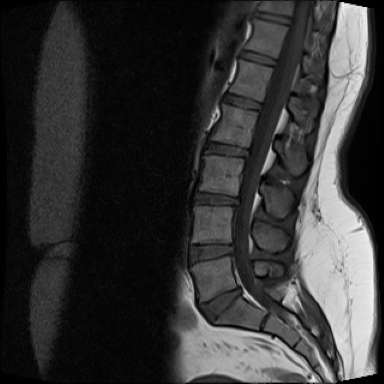Lumbar Disc Bulge (LDB): (193, 282, 247, 329), (183, 237, 239, 270), (189, 187, 242, 211)
Normal IVD: (216, 87, 266, 115), (201, 136, 254, 161), (236, 46, 280, 72), (250, 8, 294, 28)
Spinal Stenosis (SS): (230, 278, 247, 303), (231, 193, 246, 214), (225, 238, 238, 261)
